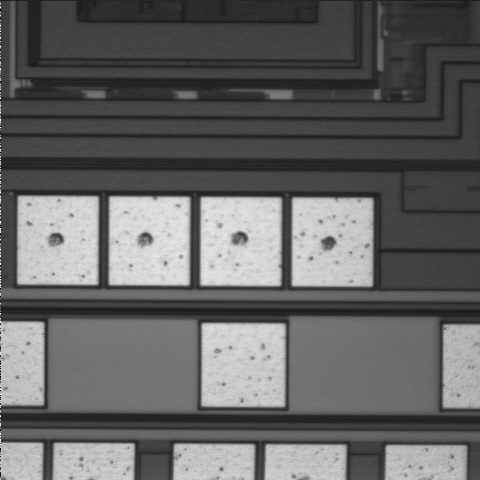pad: (109, 197, 190, 285), (18, 196, 98, 285), (201, 197, 281, 286), (292, 198, 372, 286), (202, 323, 285, 406)
